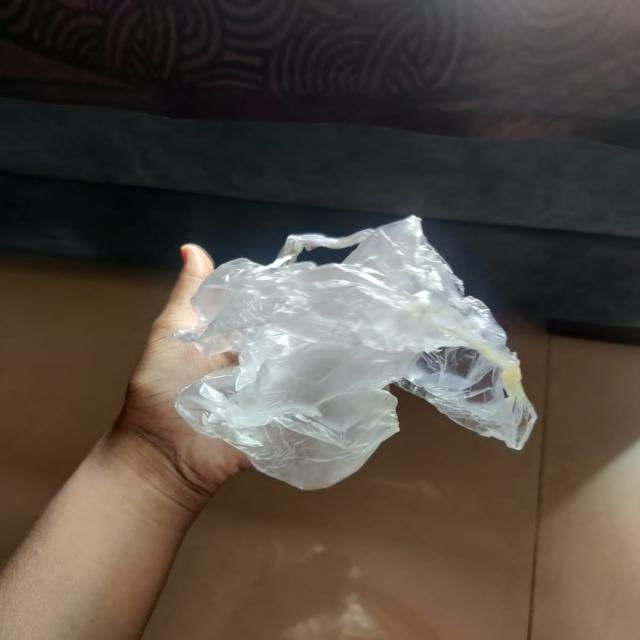Dry: (157, 209, 583, 488)
